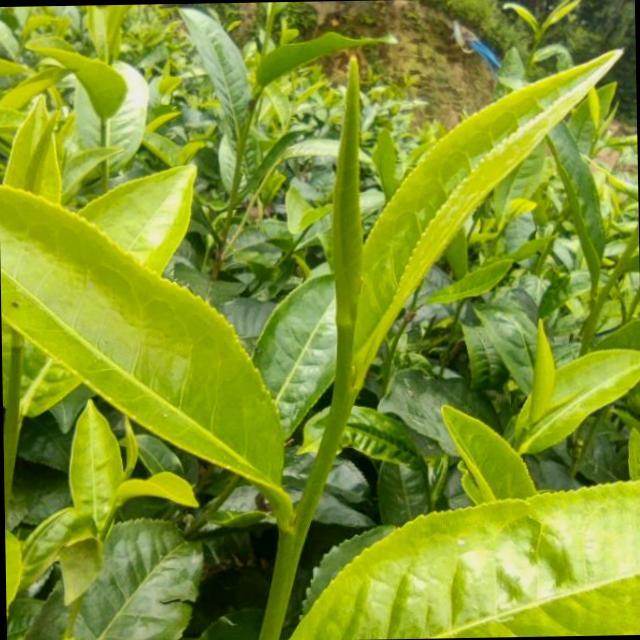Stem: (335, 386, 352, 408)
